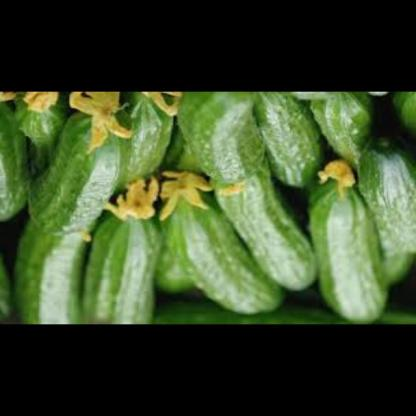cucumber: (160, 173, 278, 318), (30, 92, 134, 246), (217, 162, 328, 291), (299, 165, 391, 319), (92, 181, 175, 325), (10, 203, 94, 325), (237, 92, 321, 208), (191, 92, 272, 194), (350, 131, 416, 254), (119, 92, 186, 192), (1, 92, 40, 228), (306, 92, 380, 162)
